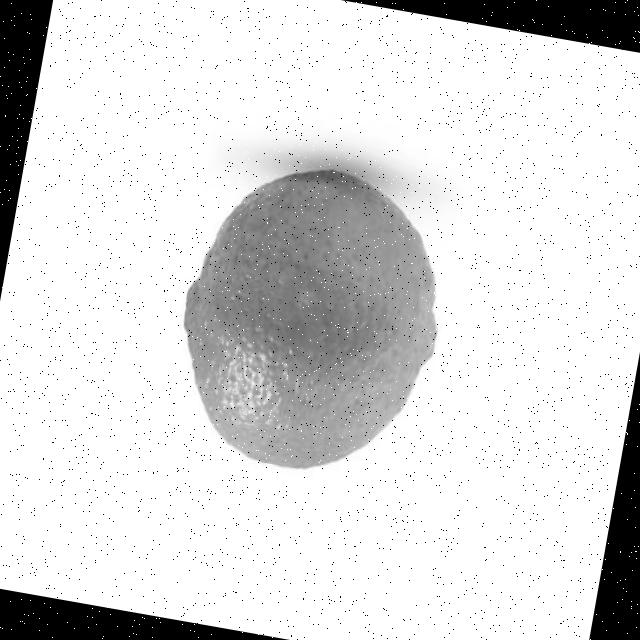Unripe: (158, 148, 462, 490)
